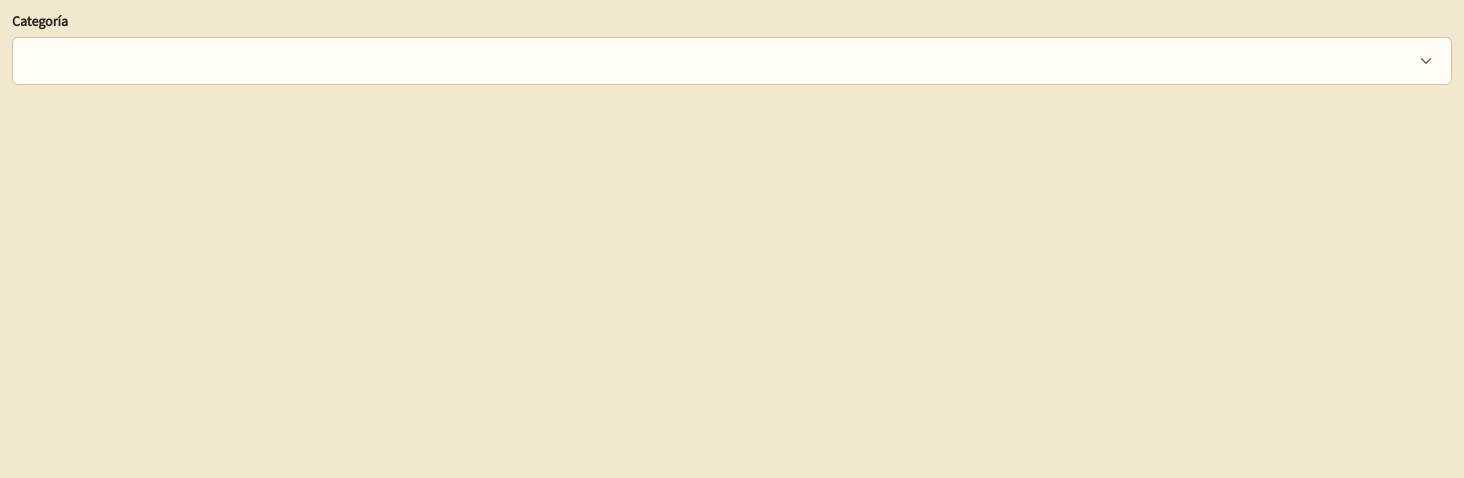
Scenario: SelectorConBuscador › sin resultados salen los dos textos
Click the dropdown named "Categoría". click: point(1426, 61)
box: x1=12 y1=37 x2=1452 y2=85
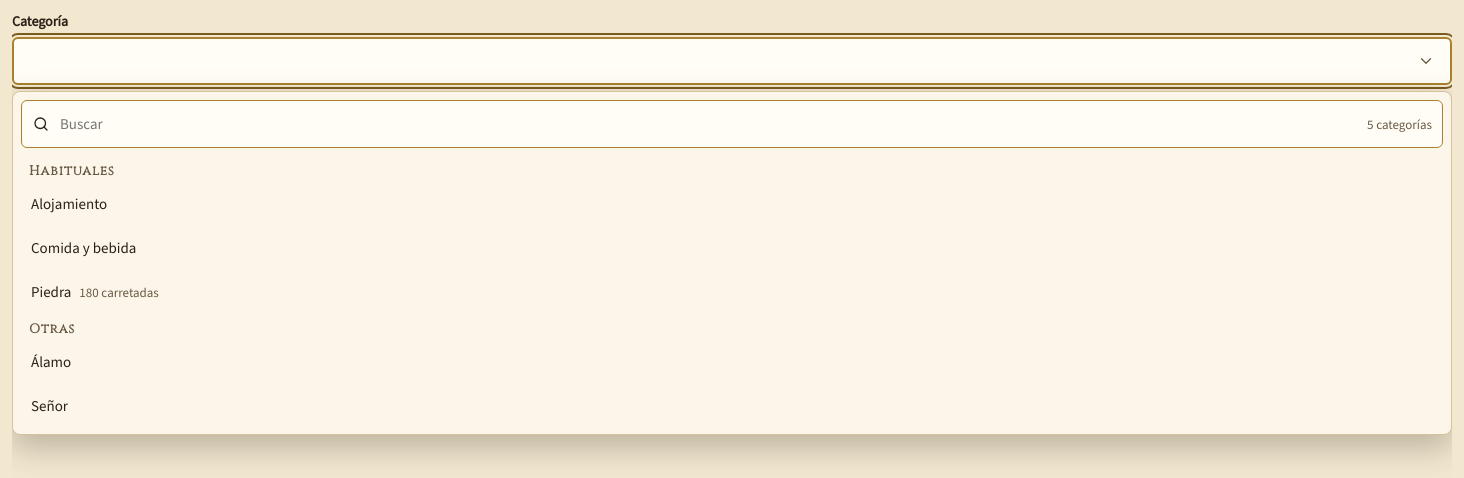
Type "zzz" into the search field labelled "Buscar". click: point(709, 124)
box: x1=58 y1=113 x2=1359 y2=135
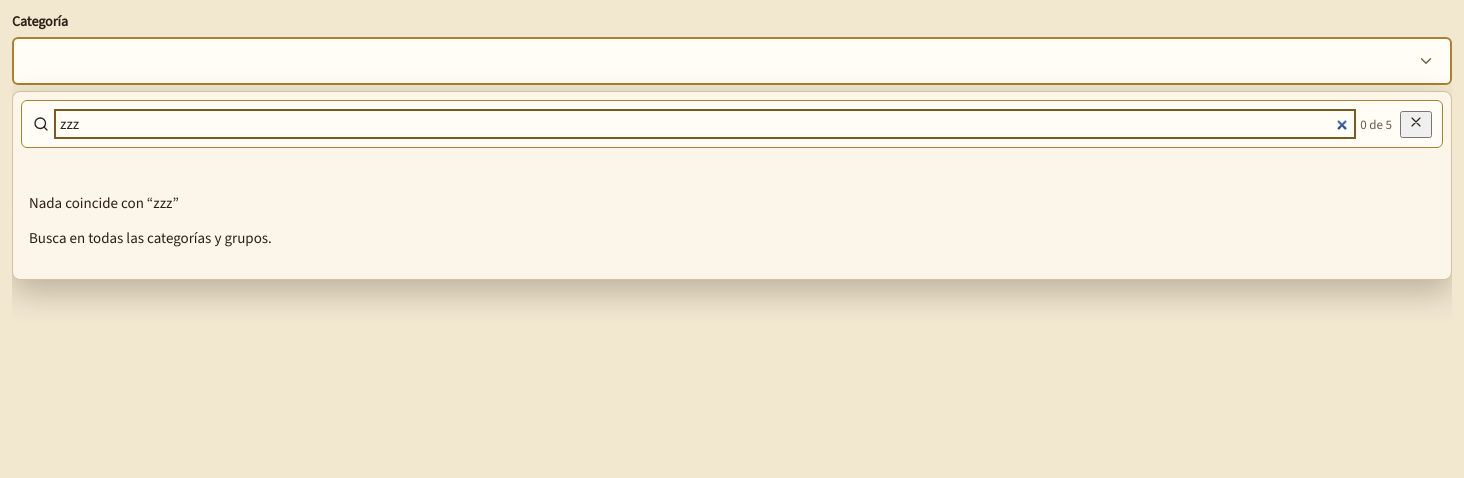
Now the text "Nada coincide con “zzz”" is shown, box x1=29 y1=193 x2=179 y2=213
Now the text "Busca en todas las categorías y grupos." is shown, box x1=29 y1=228 x2=272 y2=248
